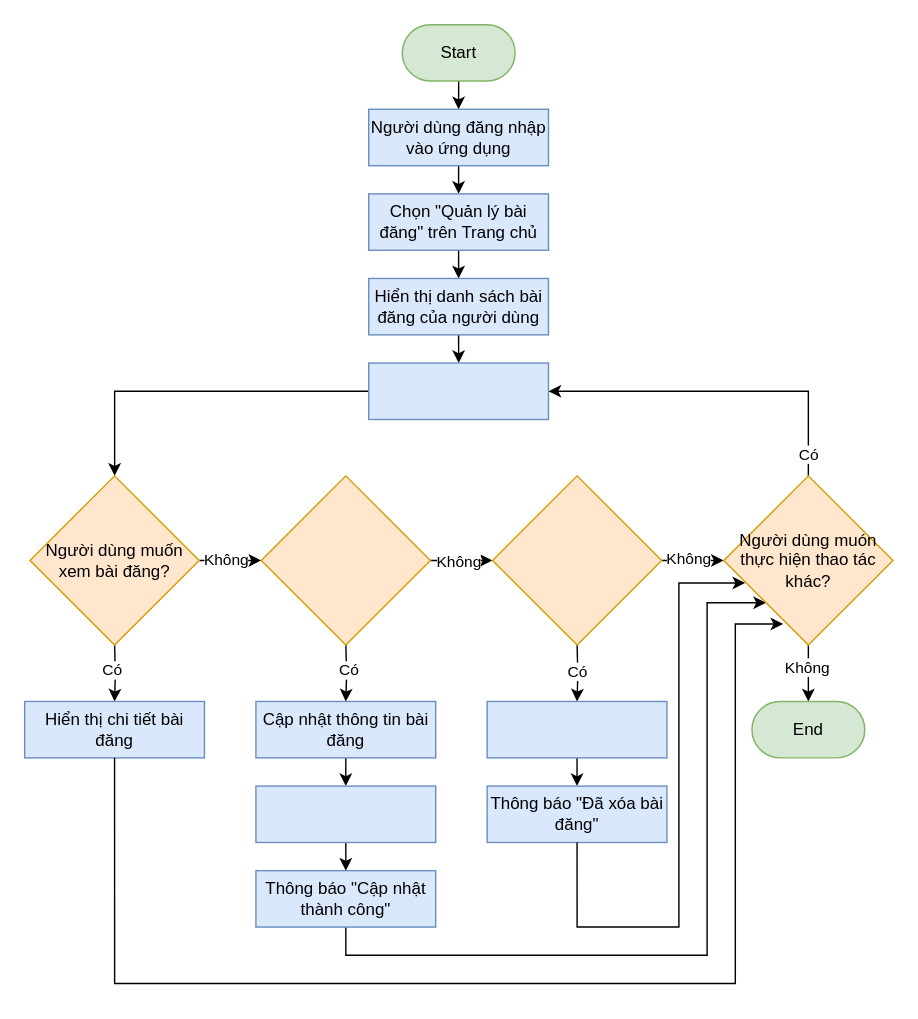
This 918x1019 diagram has some shape labels left out. The shapes that lost their labels are listed below. From the top down, each one's centre as x and y in pixels, then its label:
At (x=457, y=390): "Người dùng chọn một bài đăng cụ thể".
At (x=345, y=559): "Người dùng muón chỉnh sửa bài đăng?".
At (x=576, y=559): "Người dùng muón xóa bài đăng?".
At (x=576, y=729): "Người dùng xác nhận xóa".
At (x=345, y=813): "Xác nhận lưu thay đổi".
